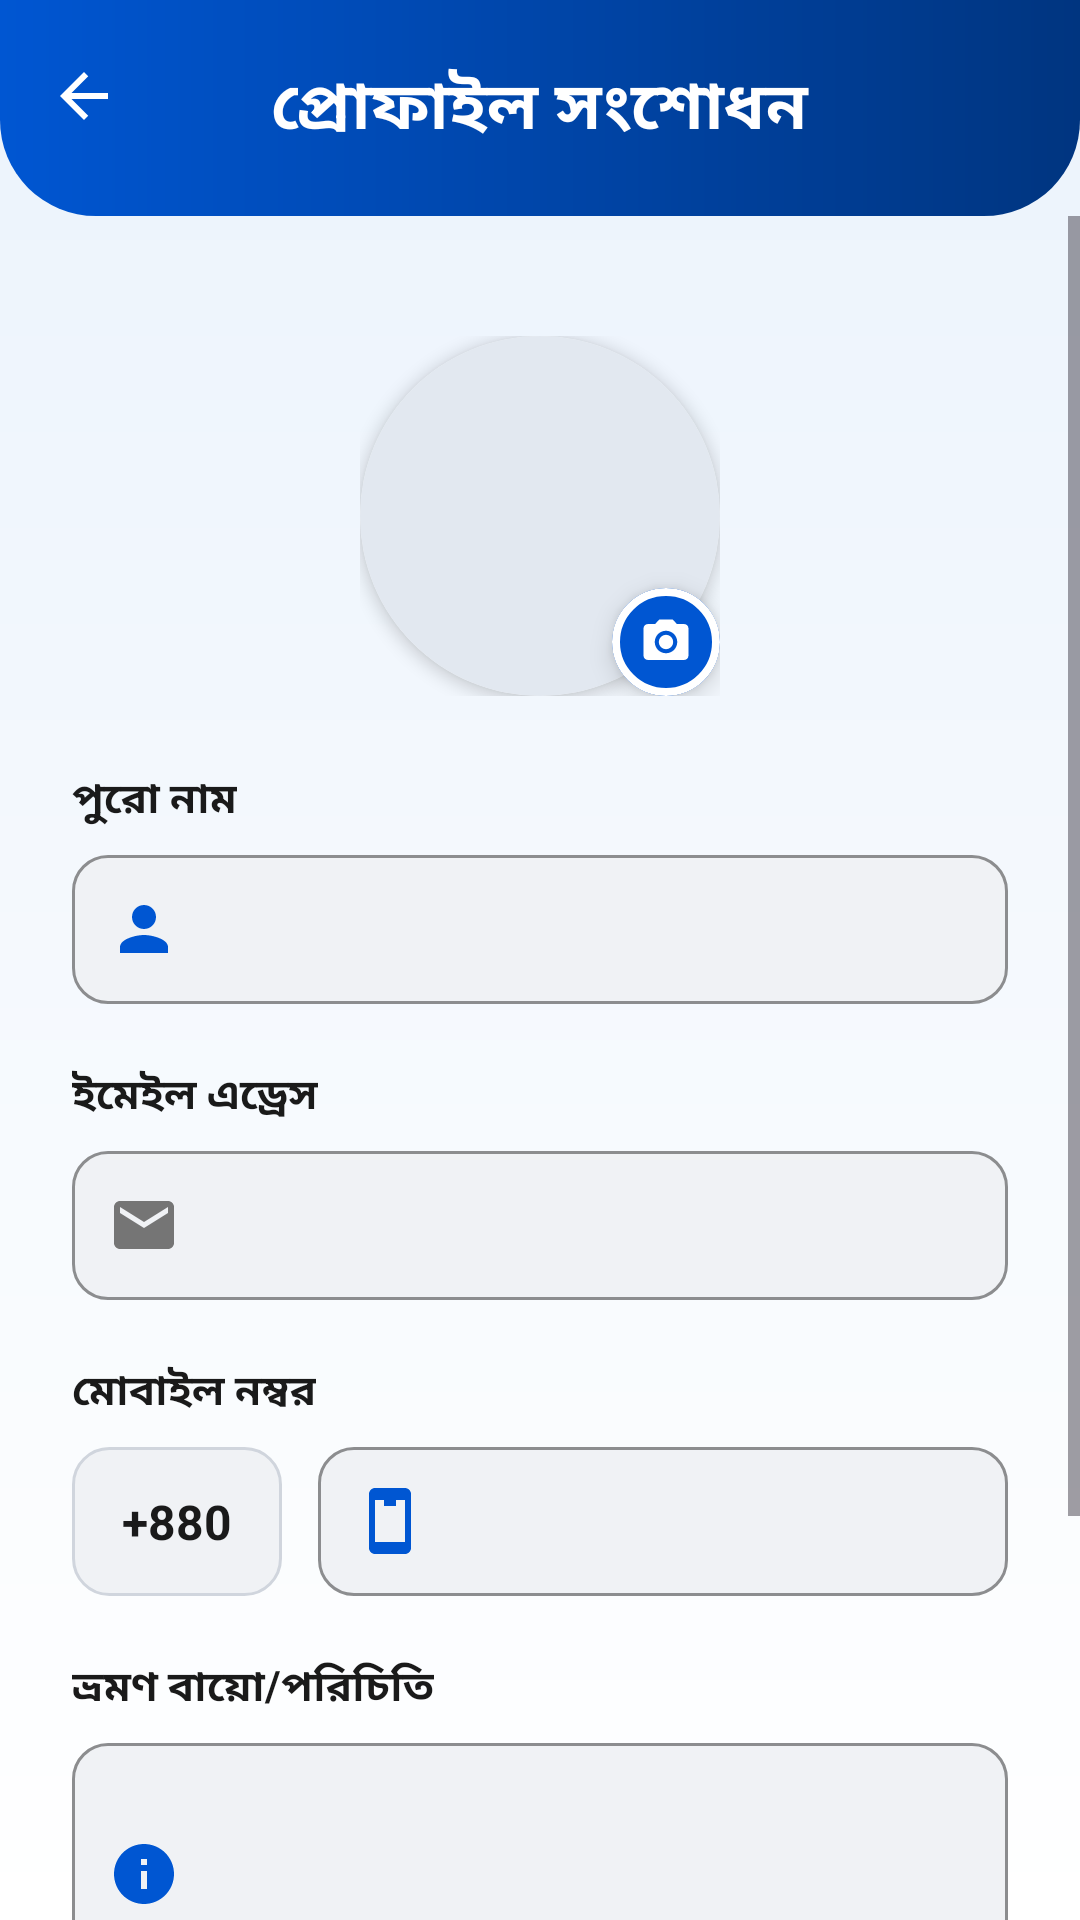

Screen size 1080 × 1920. Icon name, then its box in pixels as (x1, y1, x2, y2):
camera: (643, 619, 689, 660)
